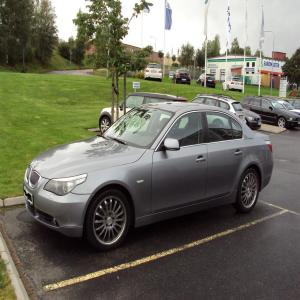Vehicle-registration-plate: (25, 186, 36, 206), (241, 117, 245, 120), (153, 72, 158, 74), (259, 123, 262, 126)
